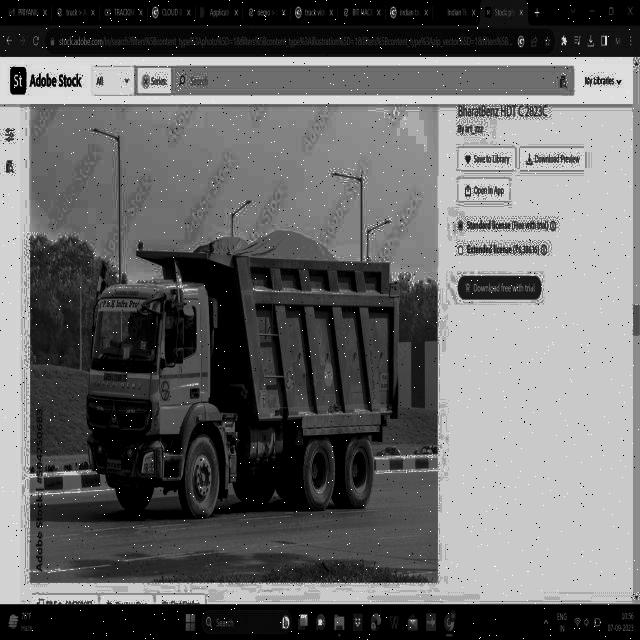HCV: (66, 200, 427, 523)
